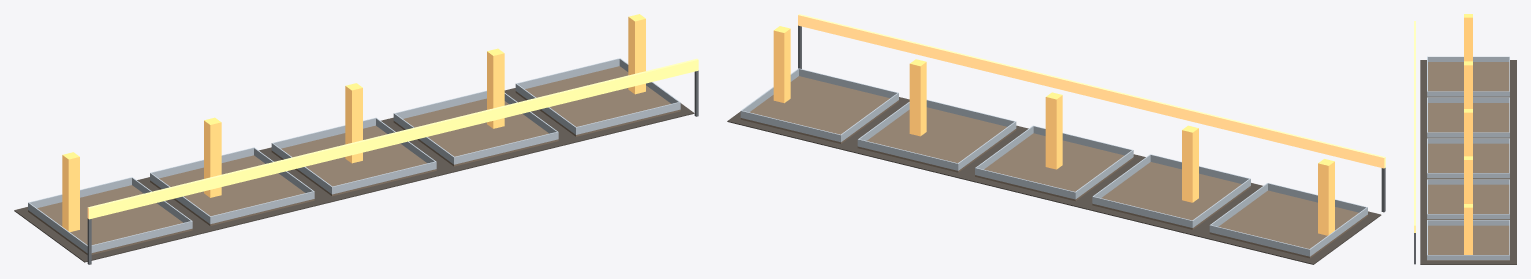
Rendered from pack-making-repair-reuse.glb.
3 views of the same model, side by side, from view 1: azimuth 30°, elevation 25°; view 2: azimuth 150°, elevation 25°; view 3: azimuth 270°, elevation 25° (orthographic). The views are drawn at different scales.
Visible parts, largest first — view 1: Making, Repair & Reuse; view 2: Making, Repair & Reuse; view 3: Making, Repair & Reuse.
Part boxes in pixels (bbox=[...]): Making, Repair & Reuse: bbox=[14, 14, 698, 264]; Making, Repair & Reuse: bbox=[727, 14, 1385, 264]; Making, Repair & Reuse: bbox=[1414, 14, 1516, 264].
Size of the model in its own units: 70 by 8.3 by 14.9.
